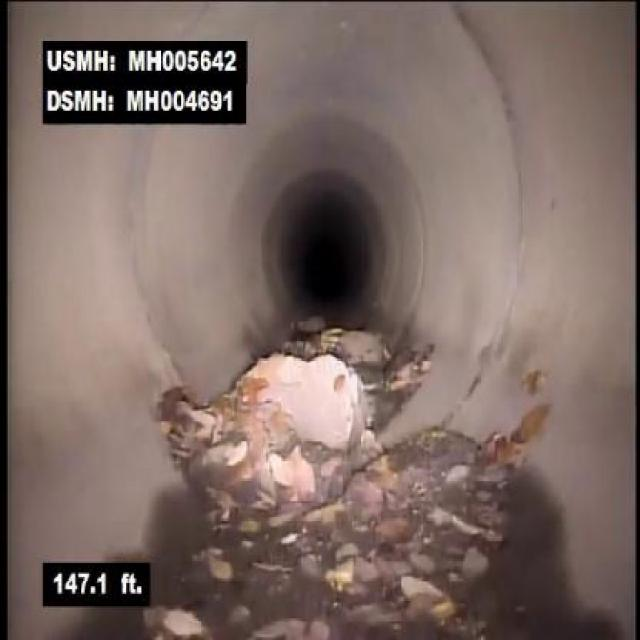Obstacle: (191, 300, 409, 503)
